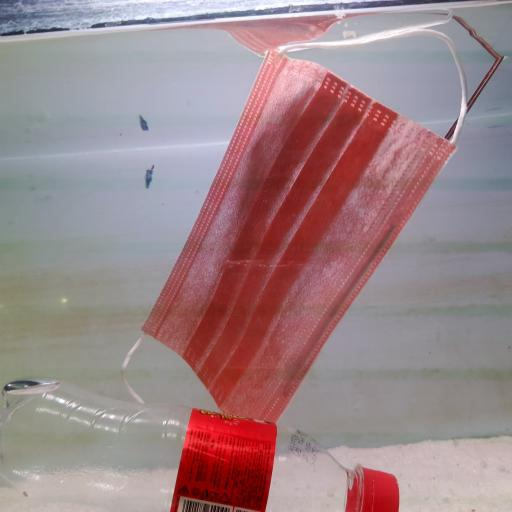bottle_cap: (352, 456, 398, 512)
mask: (112, 30, 467, 410)
plastic_bottle: (2, 377, 400, 512)
